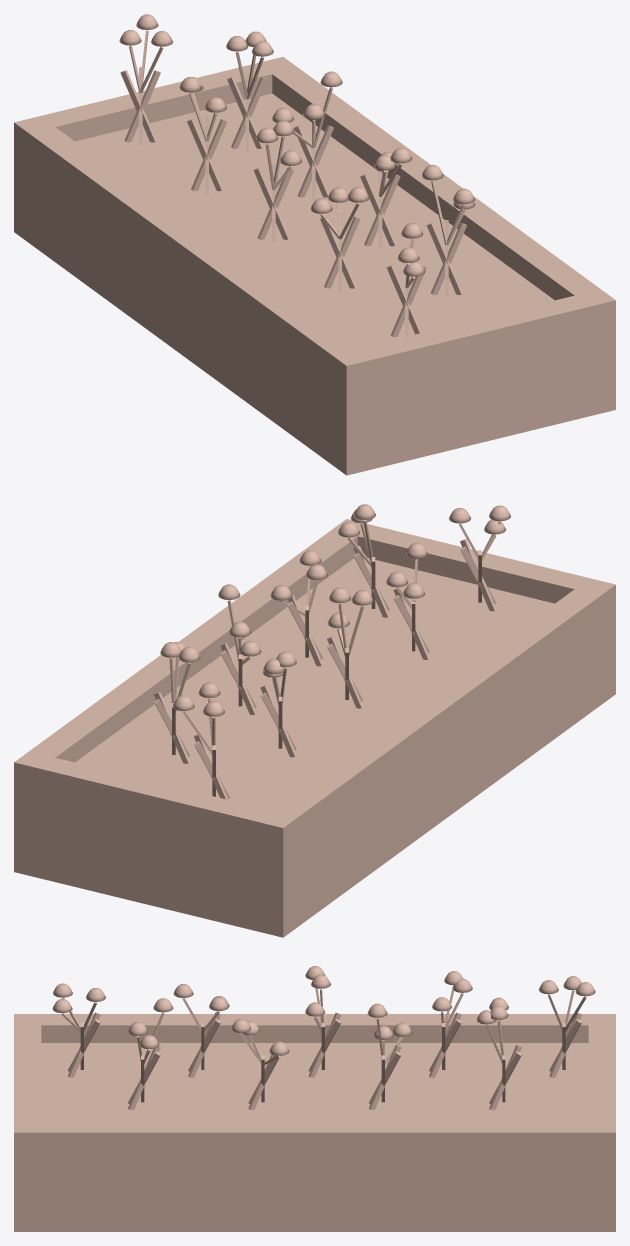
The model's file is BonHoa_SanPhoi.glb.
The picture shows the model from 3 angles, top to bottom: view 1: azimuth 30°, elevation 25°; view 2: azimuth 150°, elevation 25°; view 3: azimuth 270°, elevation 25°; orthographic projection. The views are drawn at different scales.
Visible parts, largest first — view 1: BonHoa_SanPhoi; view 2: BonHoa_SanPhoi; view 3: BonHoa_SanPhoi.
Boxes of the visible parts, <box> form: BonHoa_SanPhoi: <box>14,14,615,475</box>; BonHoa_SanPhoi: <box>14,504,615,937</box>; BonHoa_SanPhoi: <box>14,966,615,1231</box>.
Bounding box in the file's own units: 1.03 × 0.7679 × 2.2.
